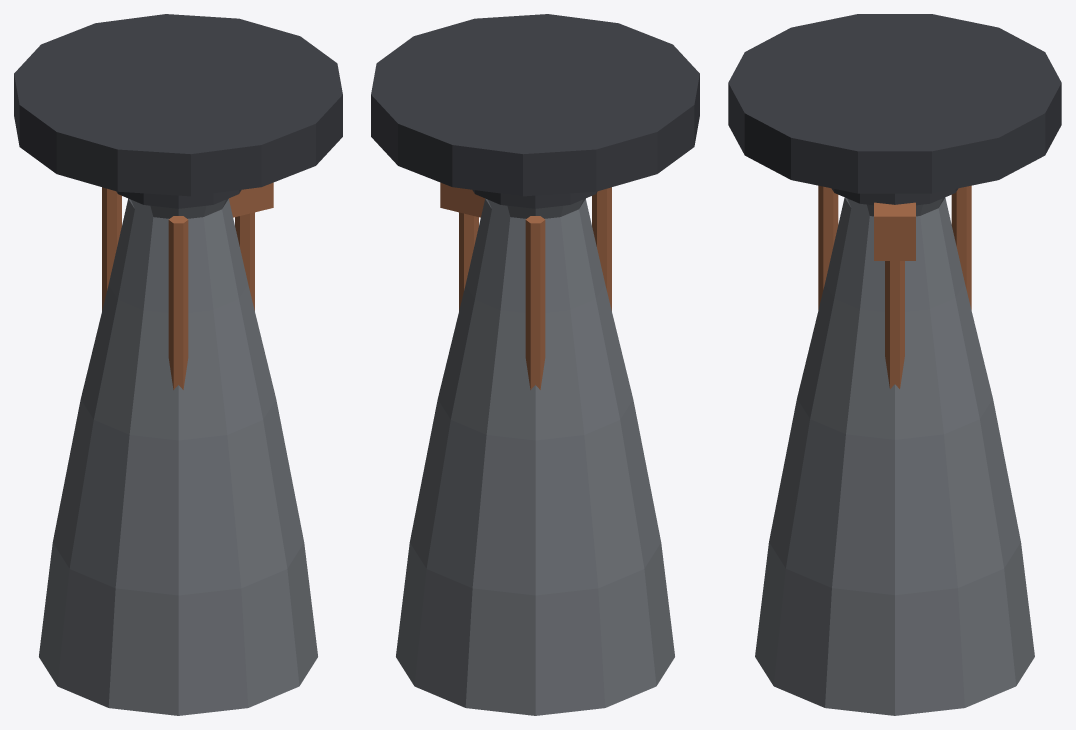
The model's file is Eng_S_Vac.fbx.
The picture shows the model from 3 angles, left to right: view 1: azimuth 30°, elevation 25°; view 2: azimuth 150°, elevation 25°; view 3: azimuth 270°, elevation 25°; orthographic projection.
Parts seen in each view (by area): view 1: Eng_S_Vac; view 2: Eng_S_Vac; view 3: Eng_S_Vac.
Boxes of the visible parts, box(x1,y1,x2,y2) form: Eng_S_Vac: box(14, 14, 342, 715); Eng_S_Vac: box(371, 14, 699, 715); Eng_S_Vac: box(728, 14, 1061, 715).
Size of the model in its own units: 0.9749 by 1.9 by 1.
Materials: 1 (1 with a texture image).
